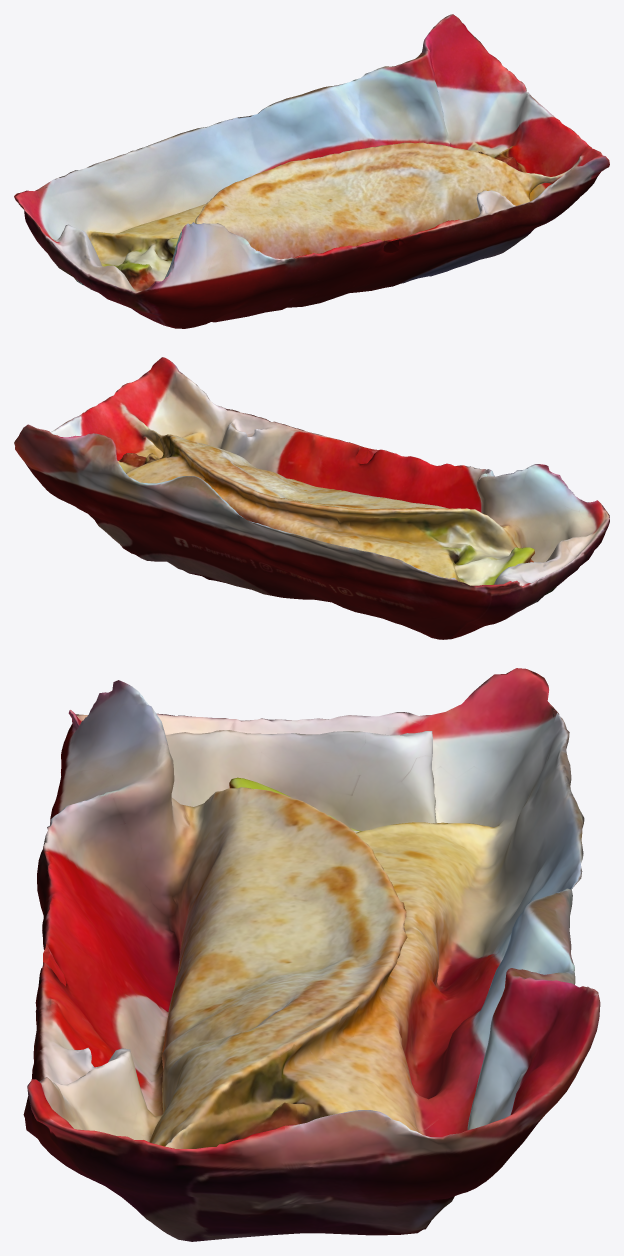
The model's file is Cherry_Beef(Tacos_Category)_1757459937111.glb.
3 renders of one model, top to bottom at view 1: azimuth 30°, elevation 25°; view 2: azimuth 150°, elevation 25°; view 3: azimuth 270°, elevation 25°, orthographic. The views are drawn at different scales.
Visible parts, largest first — view 1: 3DModel; view 2: 3DModel; view 3: 3DModel.
Part boxes in pixels (bbox=[...]): 3DModel: bbox=[14, 14, 609, 328]; 3DModel: bbox=[14, 357, 609, 639]; 3DModel: bbox=[23, 668, 600, 1241].
Size of the model in its own units: 0.2267 by 0.0709 by 0.1149.
1 material, 1 textured.
